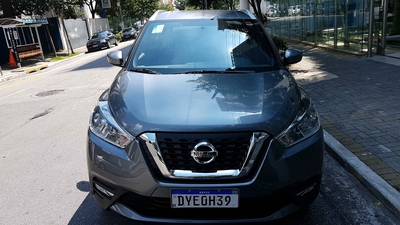Frontal Veiculo: (86, 14, 326, 225)
